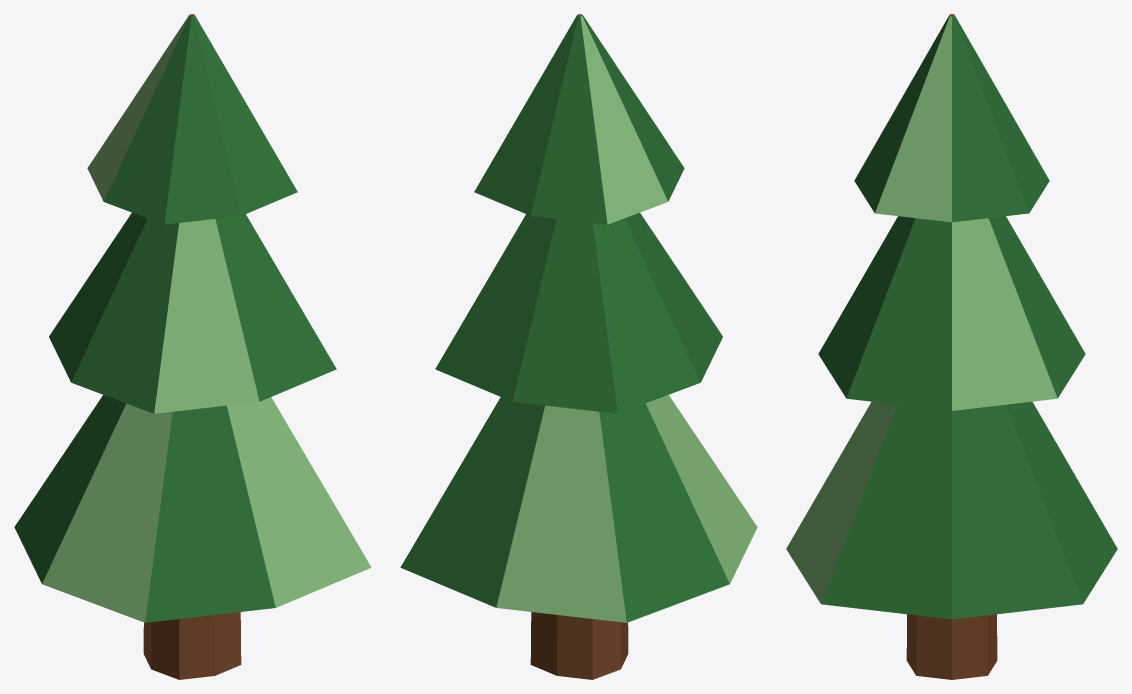
Rendered from Tree2.fbx.
3 renders of one model, left to right at view 1: azimuth 30°, elevation 25°; view 2: azimuth 150°, elevation 25°; view 3: azimuth 270°, elevation 25°, orthographic.
Visible parts, largest first — view 1: Cube.002; view 2: Cube.002; view 3: Cube.002.
Part boxes in pixels (left/top/right/bottom): Cube.002: left=14, top=14, right=371, bottom=679; Cube.002: left=400, top=14, right=757, bottom=679; Cube.002: left=786, top=14, right=1117, bottom=679.
Size of the model in its own units: 516 by 1076 by 501.
